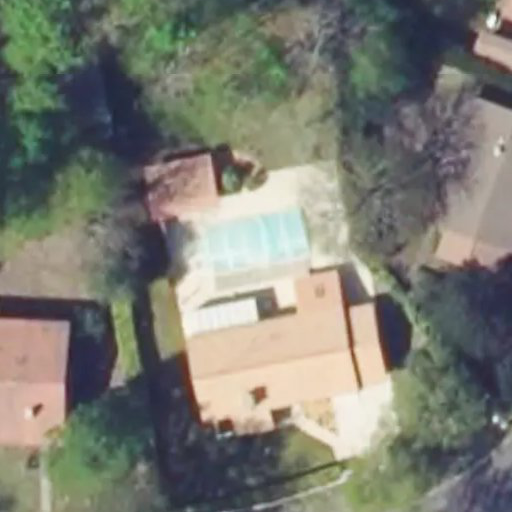pool: (211, 212, 311, 277)
